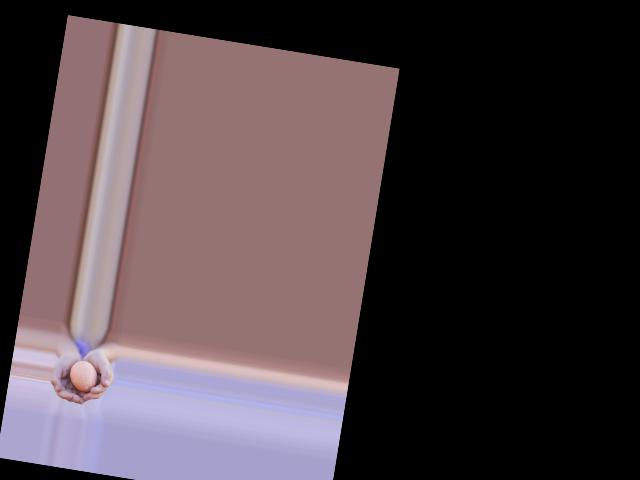egg: (66, 358, 99, 393)
